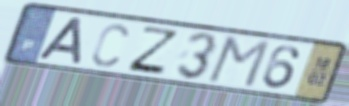3: (170, 31, 222, 82)
6: (261, 44, 302, 90)
A: (34, 15, 86, 66)
C: (89, 21, 130, 69)
M: (204, 34, 273, 90)
Z: (124, 24, 182, 77)
